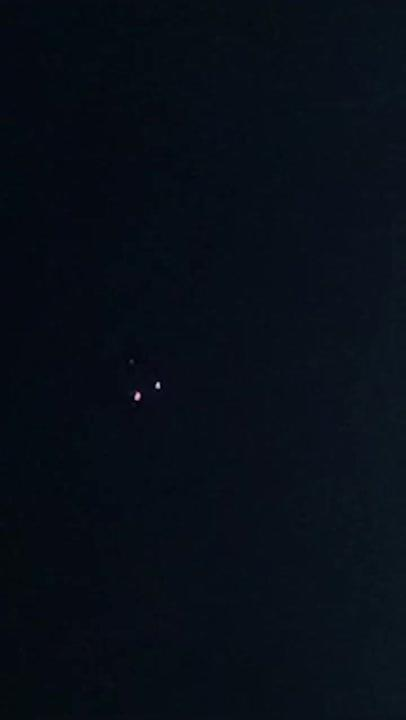Plane: (110, 350, 185, 416)
